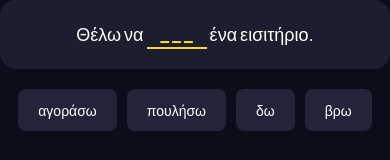
Scenario: FillBlank › inserts selected word into the sentence blank
Click the button "αγοράσω".
click(68, 110)  # box [18,89,117,131]
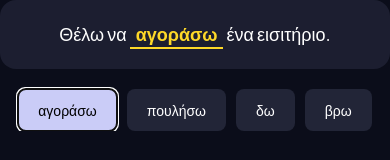
Expected: the text "αγοράσω" is shown, [130,20,224,49]
